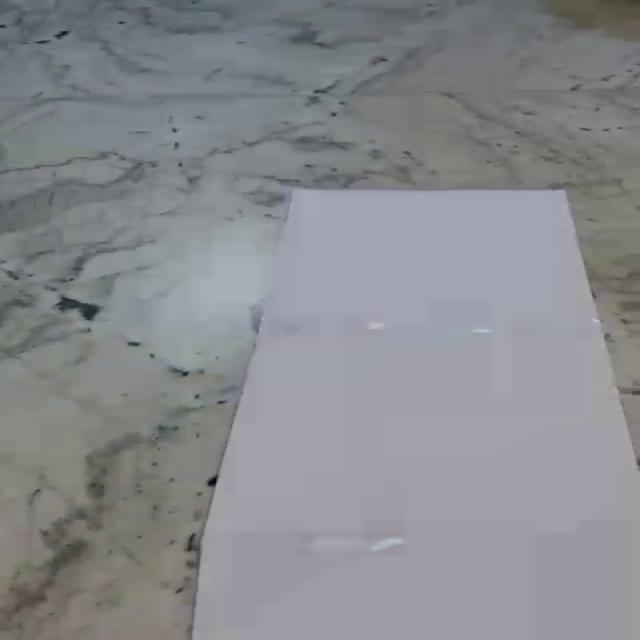road: (191, 189, 640, 640)
